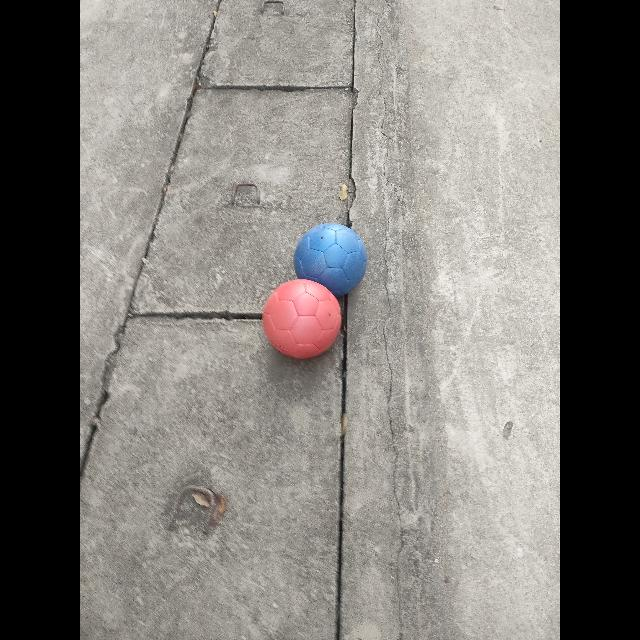B: (294, 224, 366, 296)
R: (262, 279, 342, 359)
